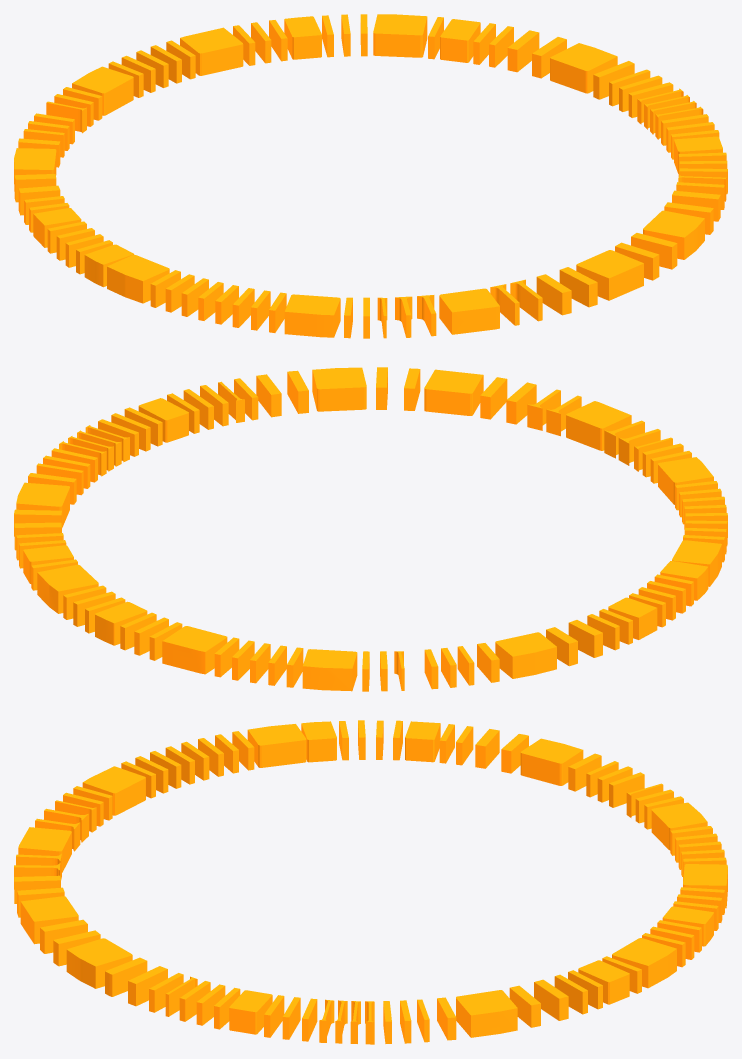
File: Arc Animation V004B (rotation only) - Inner - Glow.glb
3 renders of one model, top to bottom at view 1: azimuth 30°, elevation 25°; view 2: azimuth 150°, elevation 25°; view 3: azimuth 270°, elevation 25°, orthographic.
Parts seen in each view (by area): view 1: Arc_Inner_Ring; view 2: Arc_Inner_Ring; view 3: Arc_Inner_Ring.
Boxes of the visible parts, box(x1,y1,x2,y2) form: Arc_Inner_Ring: box(14, 14, 727, 338); Arc_Inner_Ring: box(14, 367, 727, 691); Arc_Inner_Ring: box(14, 720, 727, 1044).
Size of the model in its own units: 14.72 by 0.5098 by 14.72.
